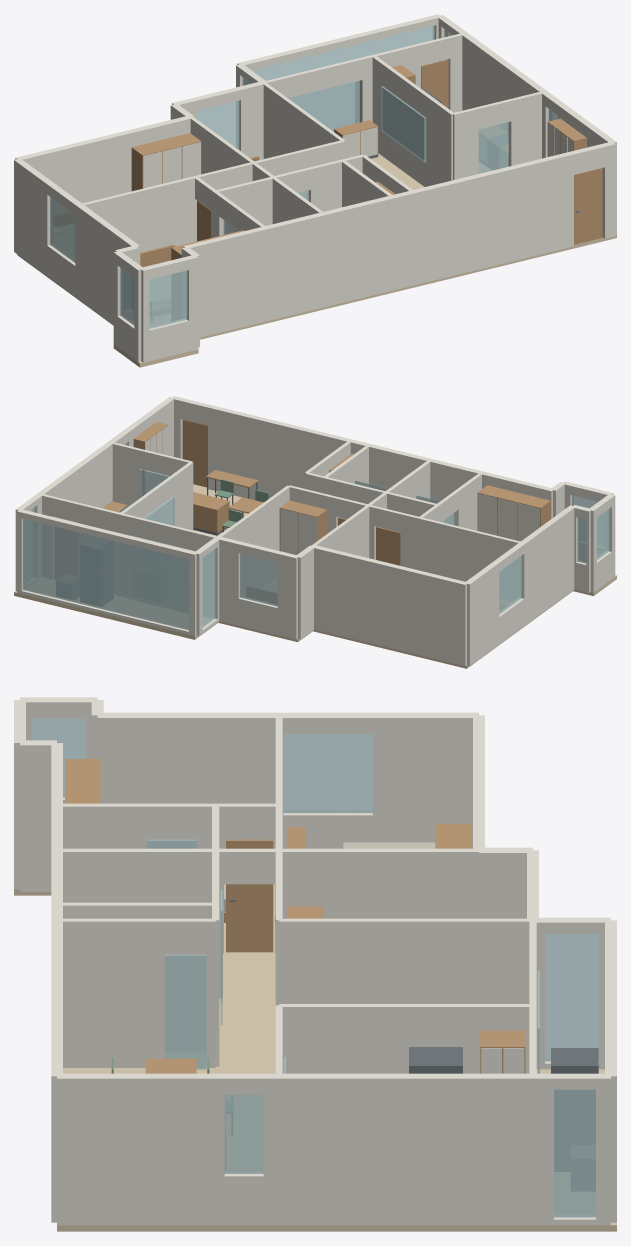
File: 157furnish_R1.glb
3 renders of one model, top to bottom at view 1: azimuth 30°, elevation 25°; view 2: azimuth 150°, elevation 25°; view 3: azimuth 270°, elevation 25°, orthographic. The views are drawn at different scales.
Visible parts, largest first — view 1: south_main_0, kitchen_w_end, north_A_end, A_south_0, west_AB_0, east_1, west_AB_end, C_east_end, balcony_glass, kitchen_s_end, living_balcony_sliding, screen__body (+49 smaller); view 2: north_A_end, south_main_0, balcony_glass, A_south_0, west_AB_0, east_1, C_east_end, west_AB_end, kitchen_w_end, floor_2, laundry__body, balcony_s_1 (+60 smaller); view 3: east_1, east_0, C_east_end, west_AB_0, store_e_0, kitchen_w_end, A_C_end, floor_0, west_AB_end, bath_AB_end, A_window, store_w_end (+42 smaller).
Part boxes in pixels (x1=…): south_main_0: x1=183, y1=151, x2=573, y2=337; kitchen_w_end: x1=372, y1=56, x2=453, y2=186; north_A_end: x1=15, y1=115, x2=192, y2=214; A_south_0: x1=79, y1=171, x2=217, y2=252; west_AB_0: x1=75, y1=203, x2=140, y2=324; east_1: x1=454, y1=28, x2=551, y2=158; west_AB_end: x1=14, y1=158, x2=53, y2=275; C_east_end: x1=262, y1=82, x2=345, y2=158; balcony_glass: x1=252, y1=25, x2=434, y2=80; kitchen_s_end: x1=509, y1=92, x2=542, y2=166; living_balcony_sliding: x1=288, y1=80, x2=359, y2=131; screen__body: x1=381, y1=86, x2=426, y2=162; north_A_end: x1=313, y1=545, x2=468, y2=666; south_main_0: x1=208, y1=405, x2=554, y2=524; balcony_glass: x1=23, y1=519, x2=188, y2=630; A_south_0: x1=400, y1=512, x2=521, y2=600; west_AB_0: x1=519, y1=505, x2=574, y2=625; east_1: x1=32, y1=438, x2=117, y2=579; C_east_end: x1=217, y1=485, x2=289, y2=596; west_AB_end: x1=466, y1=561, x2=499, y2=665; kitchen_w_end: x1=120, y1=462, x2=193, y2=549; floor_2: x1=14, y1=578, x2=218, y2=639; laundry__body: x1=80, y1=536, x2=113, y2=606; balcony_s_1: x1=78, y1=503, x2=132, y2=597; east_1: x1=263, y1=1073, x2=553, y2=1225; east_0: x1=57, y1=1073, x2=224, y2=1225; C_east_end: x1=279, y1=918, x2=532, y2=1003; west_AB_0: x1=97, y1=712, x2=283, y2=848; store_e_0: x1=58, y1=918, x2=164, y2=1067; kitchen_w_end: x1=279, y1=1004, x2=529, y2=1073; A_C_end: x1=275, y1=848, x2=478, y2=918; floor_0: x1=57, y1=884, x2=478, y2=1231; west_AB_end: x1=373, y1=712, x2=478, y2=848; bath_AB_end: x1=57, y1=848, x2=215, y2=902; A_window: x1=283, y1=734, x2=372, y2=813; store_w_end: x1=58, y1=902, x2=215, y2=1051.
Size of the model in its own units: 15.08 by 2.82 by 10.07.
